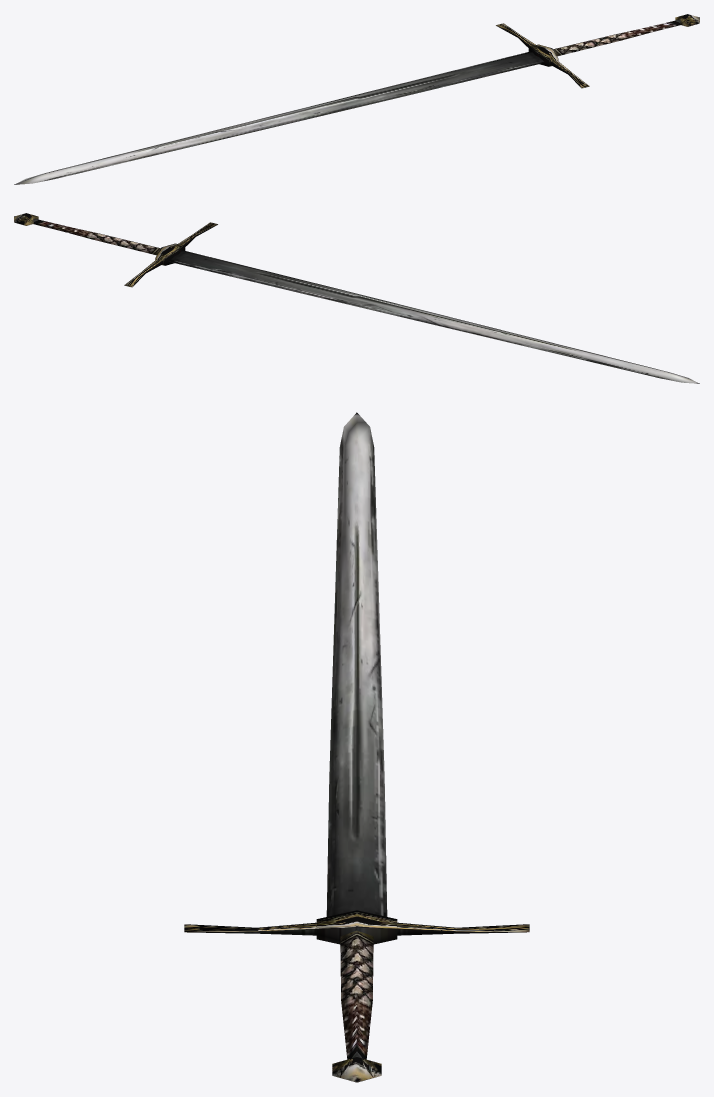
The model's file is ITMW_050_2H_SWORD_SMITH_02.glb.
3 views of the same model, one above another, from view 1: azimuth 30°, elevation 25°; view 2: azimuth 150°, elevation 25°; view 3: azimuth 270°, elevation 25° (orthographic). The views are drawn at different scales.
Visible parts, largest first — view 1: Mesh; view 2: Mesh; view 3: Mesh.
Part boxes in pixels (<box>): Mesh: <box>14,14,699,184</box>; Mesh: <box>14,213,699,383</box>; Mesh: <box>184,412,529,1082</box>.
Bounding box in the file's own units: 1.38 × 0.0247 × 0.3.
2 materials, 2 textured.
